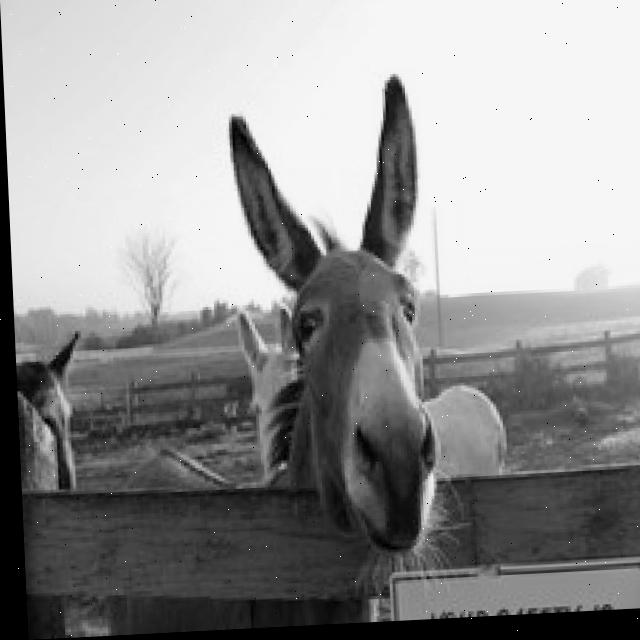Donkey: (81, 67, 511, 633), (224, 66, 508, 497), (15, 328, 94, 637)
